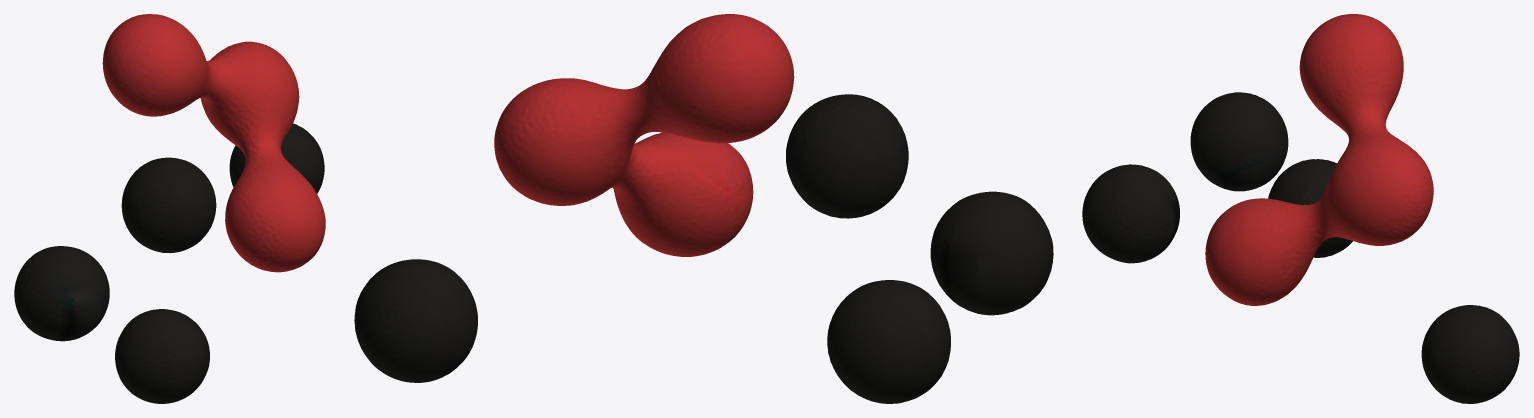
The model's file is react-router.glb.
The picture shows the model from 3 angles, left to right: view 1: azimuth 30°, elevation 25°; view 2: azimuth 150°, elevation 25°; view 3: azimuth 270°, elevation 25°; orthographic projection. The views are drawn at different scales.
Parts seen in each view (by area): view 1: tripo_node_4dfd4587-1c4d-461b-b0e3-1c0322660099; view 2: tripo_node_4dfd4587-1c4d-461b-b0e3-1c0322660099; view 3: tripo_node_4dfd4587-1c4d-461b-b0e3-1c0322660099.
Part boxes in pixels (left/top/right/bottom): tripo_node_4dfd4587-1c4d-461b-b0e3-1c0322660099: left=14, top=14, right=325, bottom=403; tripo_node_4dfd4587-1c4d-461b-b0e3-1c0322660099: left=354, top=14, right=1053, bottom=403; tripo_node_4dfd4587-1c4d-461b-b0e3-1c0322660099: left=1082, top=14, right=1519, bottom=403.
Size of the model in its own units: 1 by 0.7153 by 0.9833.
Materials: 1 (1 with a texture image).
